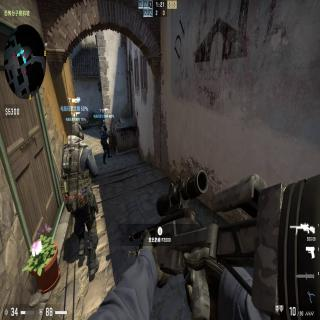CT-Body: (56, 122, 99, 279), (100, 124, 112, 163)
CT-Head: (72, 124, 84, 144), (101, 124, 108, 131)
